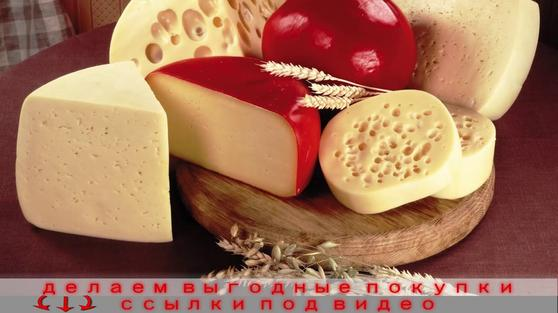cheese: (14, 58, 175, 243)
